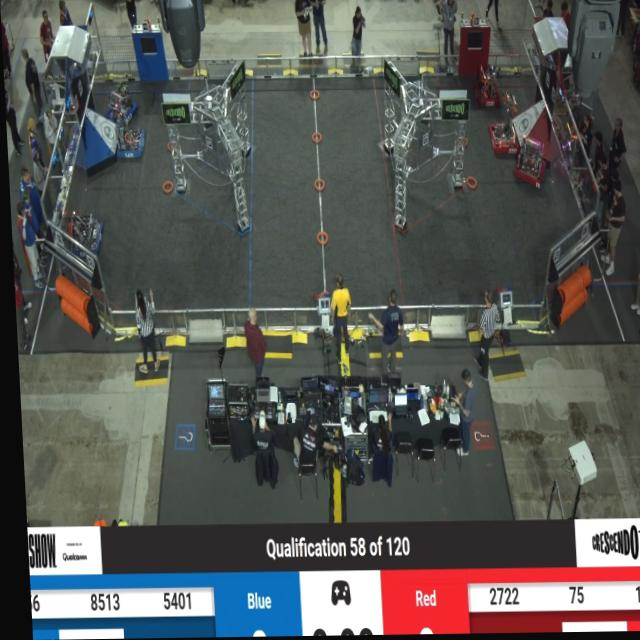Robot: (484, 90, 520, 160), (63, 205, 104, 264), (510, 133, 548, 196), (102, 76, 140, 132), (109, 113, 146, 164), (471, 58, 500, 114)
